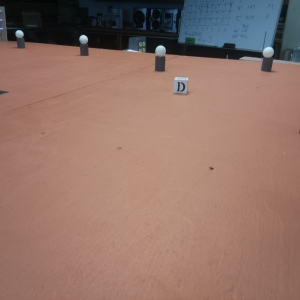blockD: (174, 75, 189, 95)
corner: (1, 5, 7, 40)
obstacle: (154, 44, 167, 72), (262, 46, 273, 73), (79, 34, 90, 57), (15, 28, 26, 48)
